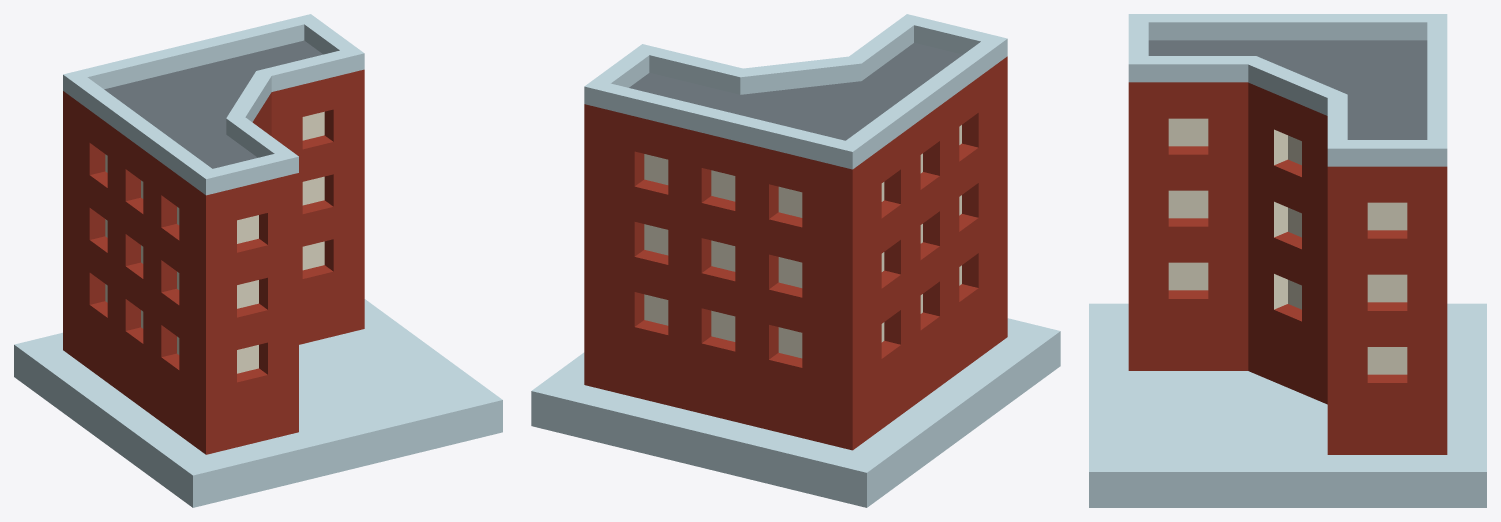
File: Building_8_Base (Red).obj
3 views of the same model, side by side, from view 1: azimuth 30°, elevation 25°; view 2: azimuth 150°, elevation 25°; view 3: azimuth 270°, elevation 25° (orthographic). The views are drawn at different scales.
Visible parts, largest first — view 1: Building_8_Base_(Red); view 2: Building_8_Base_(Red); view 3: Building_8_Base_(Red).
Part boxes in pixels (x1=…): Building_8_Base_(Red): x1=14, y1=14, x2=502, y2=507; Building_8_Base_(Red): x1=531, y1=14, x2=1060, y2=507; Building_8_Base_(Red): x1=1089, y1=14, x2=1486, y2=507.
Bounding box in the file's own units: 2 × 1.9 × 2.
